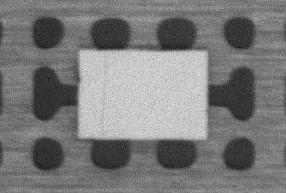DIE_CRACK: (100, 52, 107, 138)
